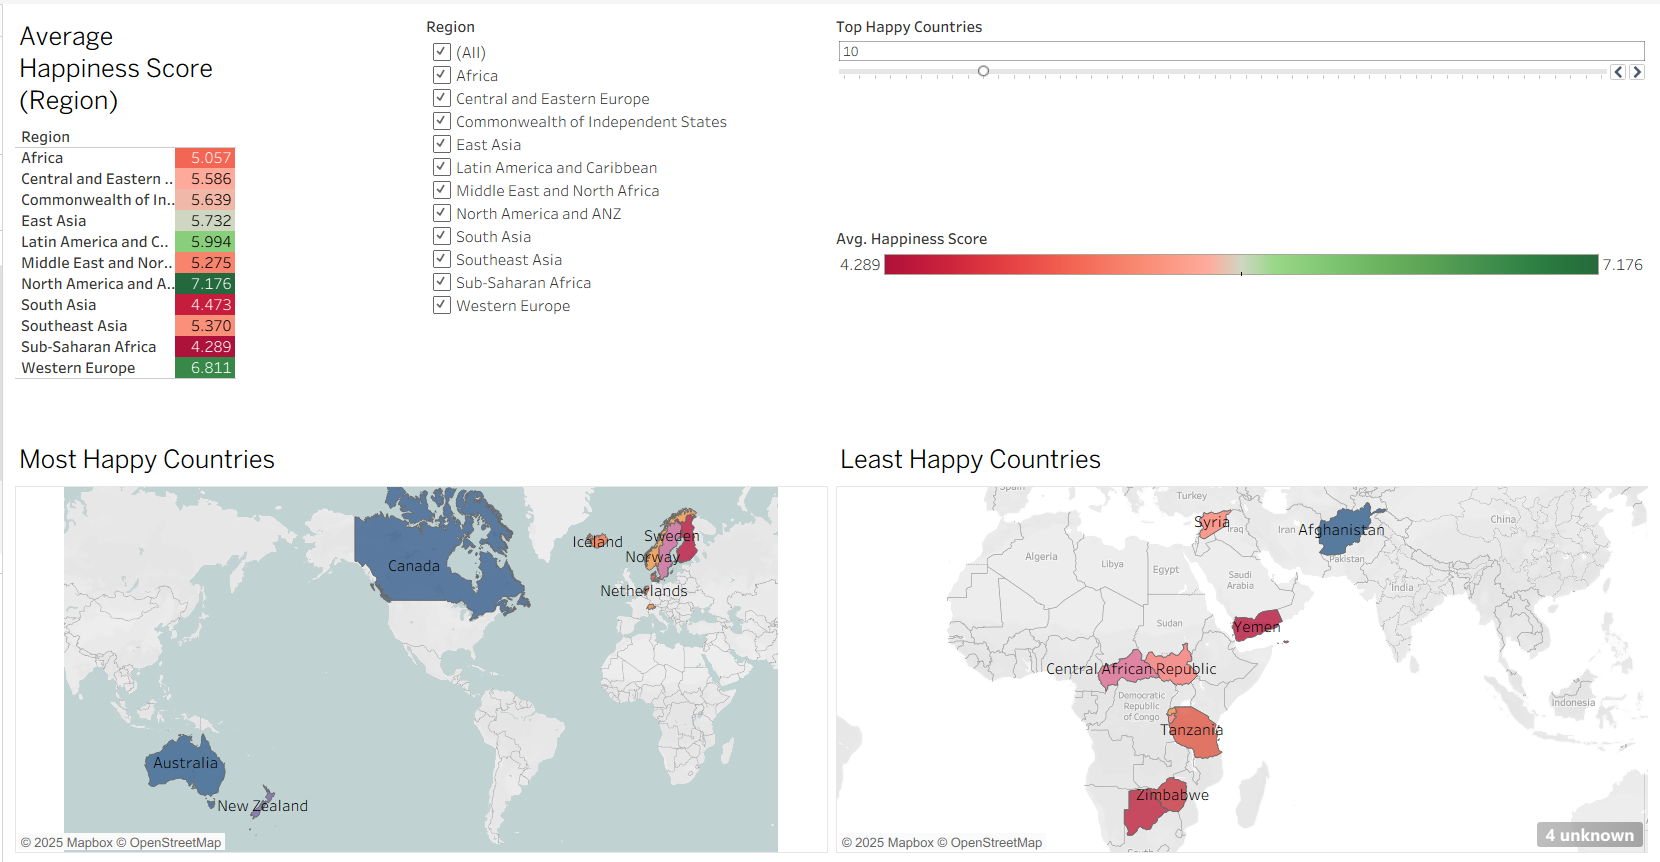

What the dashboard file says about the page in this screenshot:
{"tool":"tableau","page":{"name":"Happiness Status Overview (2015–2023)","canvas":[1000,1000],"units":"permille","ordinal":3},"visuals":[{"type":"worksheet","title":"Average Happiness Score (Region)","mark":"Square","rows":["region"],"box":[4.7,9.3,247.8,491.3]},{"type":"filter","title":"Average Happiness Score (Region)","param":"[federated.0ivh1go1498ge71654oet1wakh3u].[none:region:nk]","box":[252.5,9.3,247.8,491.3]},{"type":"parameter","param":"[Parameters].[Parameter 1]","box":[500.3,9.3,495,246.2]},{"type":"legend","title":"Average Happiness Score (Region)","param":"[federated.0ivh1go1498ge71654oet1wakh3u].[avg:happiness_score:qk]","box":[500.3,255.5,495,245.1]},{"type":"worksheet","title":"Most Happy Countries","mark":"Automatic","box":[4.7,500,495.3,490.7]},{"type":"worksheet","title":"Least Happy Countries","mark":"Automatic","box":[500,500,495.3,490.7]}]}

Visuals, with their boxes on the dashboard's canvas, which has no fixed pixel size, in thousandths of its width and height (x1, y1, x2, y2). These are canvas units, not pixel positions in the 1660x862 screenshot, which may show the page scaled, cropped or inside an application window:
"Average Happiness Score (Region)" worksheet (Square marks): bbox=[5, 9, 252, 501]
"Average Happiness Score (Region)" filter: bbox=[252, 9, 500, 501]
parameter: bbox=[500, 9, 995, 256]
"Average Happiness Score (Region)" legend: bbox=[500, 256, 995, 501]
"Most Happy Countries" worksheet: bbox=[5, 500, 500, 991]
"Least Happy Countries" worksheet: bbox=[500, 500, 995, 991]
